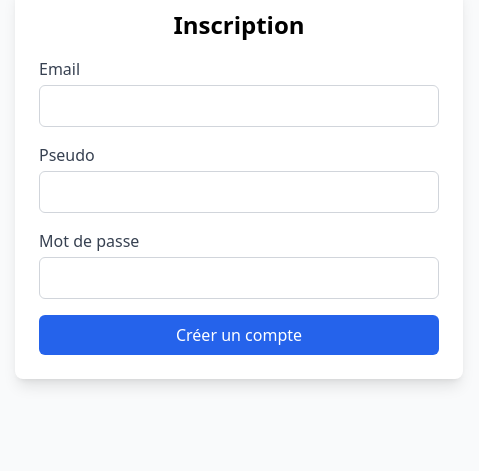
Test: Register Page › affiche une erreur si l'email est déjà utilisé
Type "existing@test.com" into the field labelled "Email" at (239, 106), box left=39, top=85, right=439, bottom=127
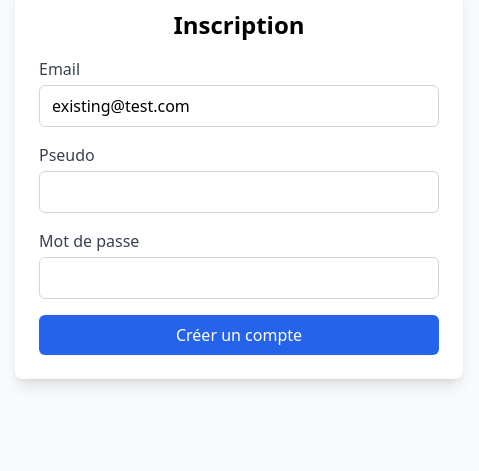
Type "existingUser" into the field labelled "Pseudo" at (239, 192), box left=39, top=171, right=439, bottom=213
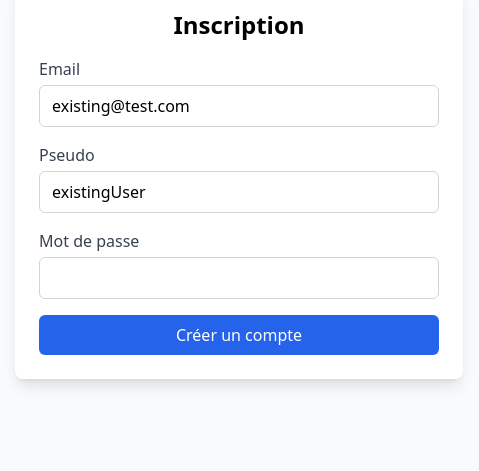
Type "password123" into the password field labelled "Mot de passe" at (239, 278), box left=39, top=257, right=439, bottom=299
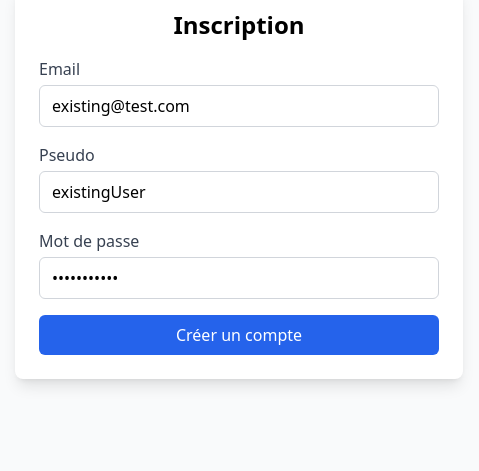
Click the button "Créer un compte" at (239, 335), box left=39, top=315, right=439, bottom=355
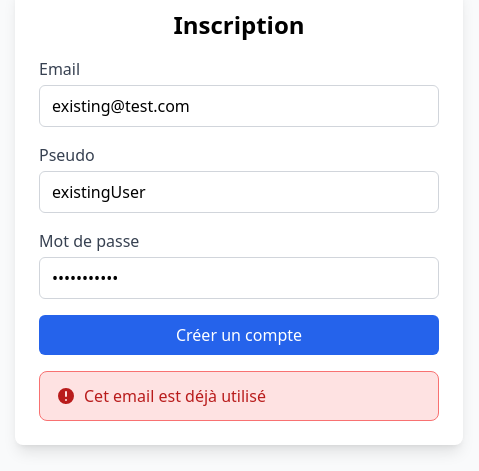
Expected: the text "Cet email est déjà utilisé" is shown, left=56, top=385, right=266, bottom=407
